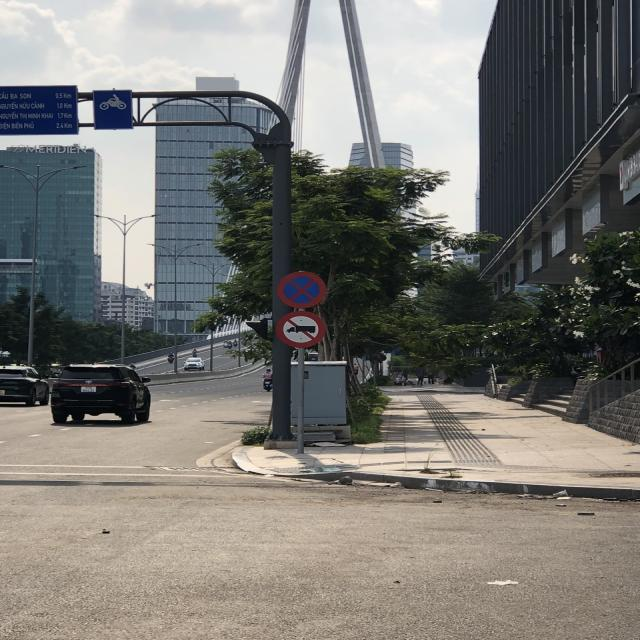Bien bao cam dung xe va do xe: (271, 268, 334, 308)
Bien bao cam xe so-mi ro-mooc: (268, 310, 332, 350)
